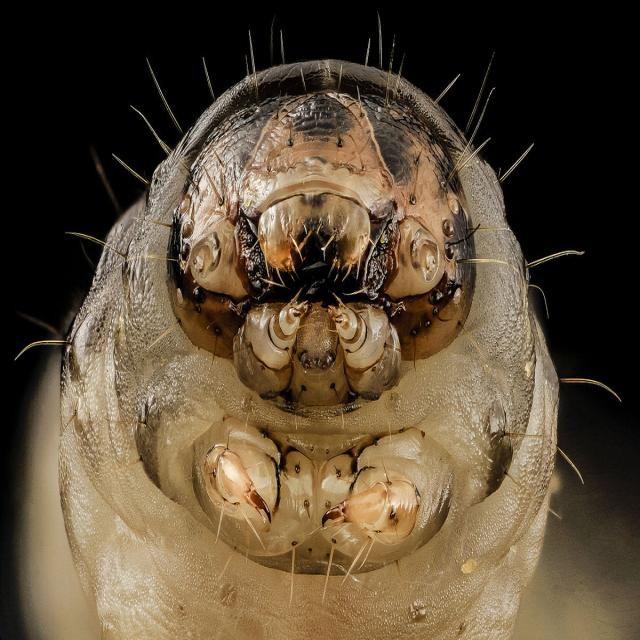worm: (15, 20, 620, 639)
